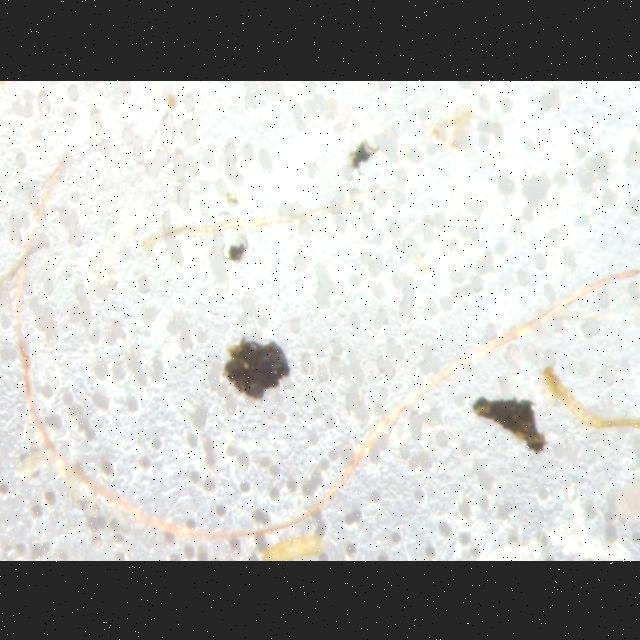Fibre: (6, 150, 640, 560), (532, 352, 640, 462), (252, 538, 344, 560)
